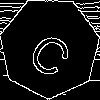C: (24, 22, 81, 82)
